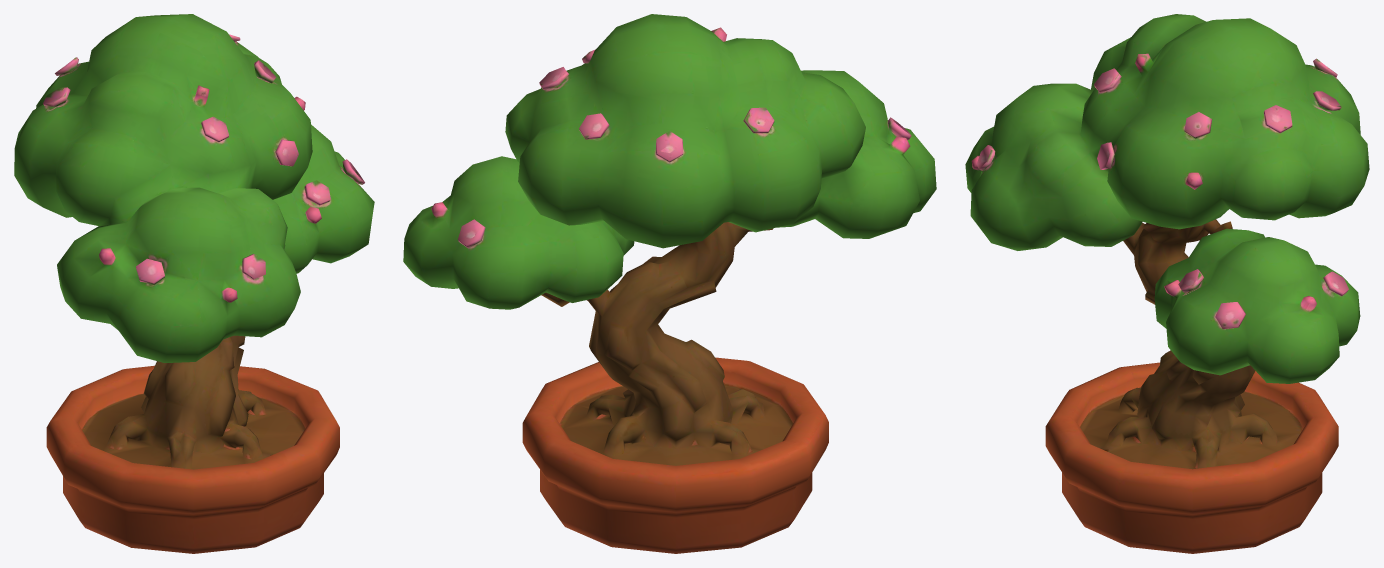
File: tree.glb
3 views of the same model, side by side, from view 1: azimuth 30°, elevation 25°; view 2: azimuth 150°, elevation 25°; view 3: azimuth 270°, elevation 25° (orthographic). The views are drawn at different scales.
Parts seen in each view (by area): view 1: tripo_node_19734554-f737-46f9-af12-13530c36fe5a; view 2: tripo_node_19734554-f737-46f9-af12-13530c36fe5a; view 3: tripo_node_19734554-f737-46f9-af12-13530c36fe5a.
Boxes of the visible parts, left/top/right/bottom form: tripo_node_19734554-f737-46f9-af12-13530c36fe5a: left=14, top=14, right=374, bottom=553; tripo_node_19734554-f737-46f9-af12-13530c36fe5a: left=403, top=14, right=936, bottom=553; tripo_node_19734554-f737-46f9-af12-13530c36fe5a: left=965, top=14, right=1369, bottom=553.
Bounding box in the file's own units: 0.8282 × 0.9774 × 0.7516.
1 material, 1 textured.
